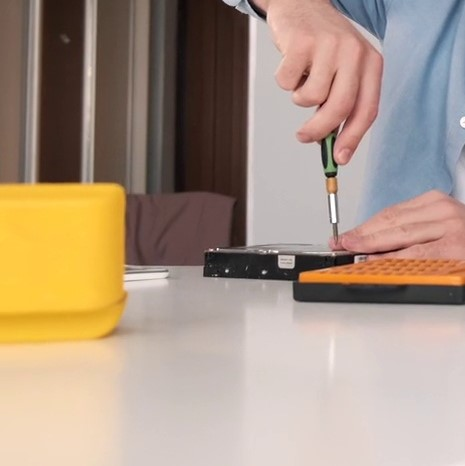screwdriver: (315, 79, 345, 245)
